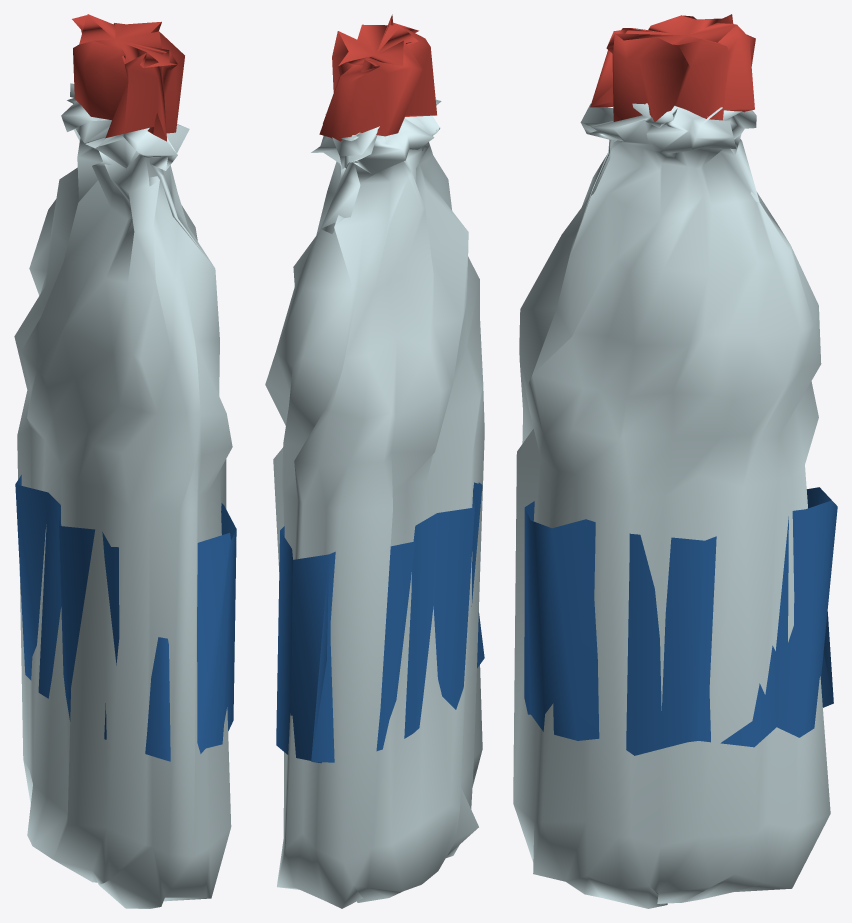
Rendered from item_pet_crushed_b.fbx.
The picture shows the model from 3 angles, left to right: view 1: azimuth 30°, elevation 25°; view 2: azimuth 150°, elevation 25°; view 3: azimuth 270°, elevation 25°; orthographic projection. The views are drawn at different scales.
Parts seen in each view (by area): view 1: item_pet_crushed_b; view 2: item_pet_crushed_b; view 3: item_pet_crushed_b.
Boxes of the visible parts, bbox=[...] form: item_pet_crushed_b: bbox=[14, 14, 236, 908]; item_pet_crushed_b: bbox=[265, 14, 484, 908]; item_pet_crushed_b: bbox=[513, 14, 837, 908].
Size of the model in its own units: 0.0441 by 0.2211 by 0.0755.
